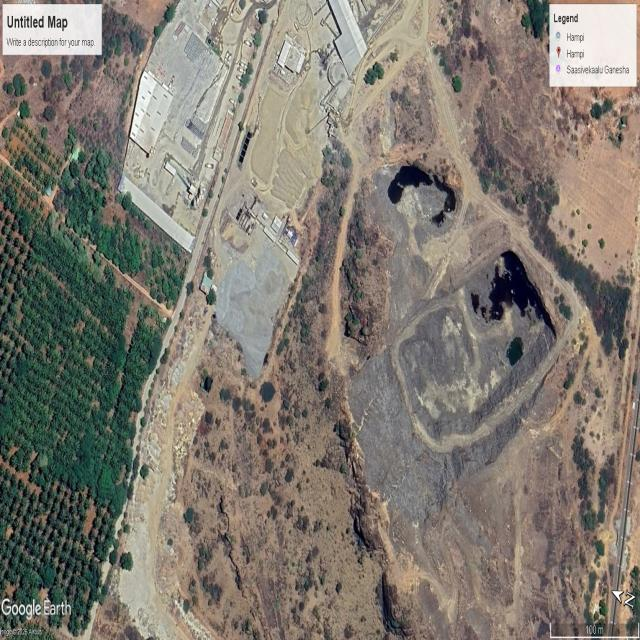ruins: (383, 410, 560, 630), (102, 301, 219, 627), (433, 6, 554, 203), (210, 194, 302, 373), (347, 2, 433, 152), (427, 378, 548, 482), (348, 349, 420, 502), (555, 133, 639, 264), (382, 144, 468, 262), (251, 74, 320, 211), (4, 102, 84, 216), (380, 567, 418, 636)
vegetation: (4, 212, 146, 512), (5, 114, 177, 336), (3, 2, 145, 143), (506, 5, 638, 146), (553, 242, 635, 361), (442, 3, 498, 88), (341, 226, 373, 341), (524, 2, 550, 43), (506, 335, 524, 365)
